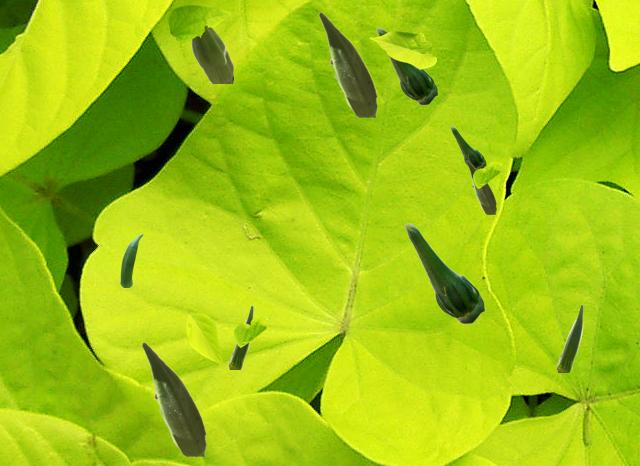okra: (404, 223, 484, 323), (141, 341, 205, 455), (318, 11, 376, 116), (376, 27, 437, 104), (191, 26, 232, 82), (556, 304, 582, 371), (466, 160, 495, 213), (228, 305, 252, 368), (450, 126, 485, 168), (120, 233, 142, 286)
